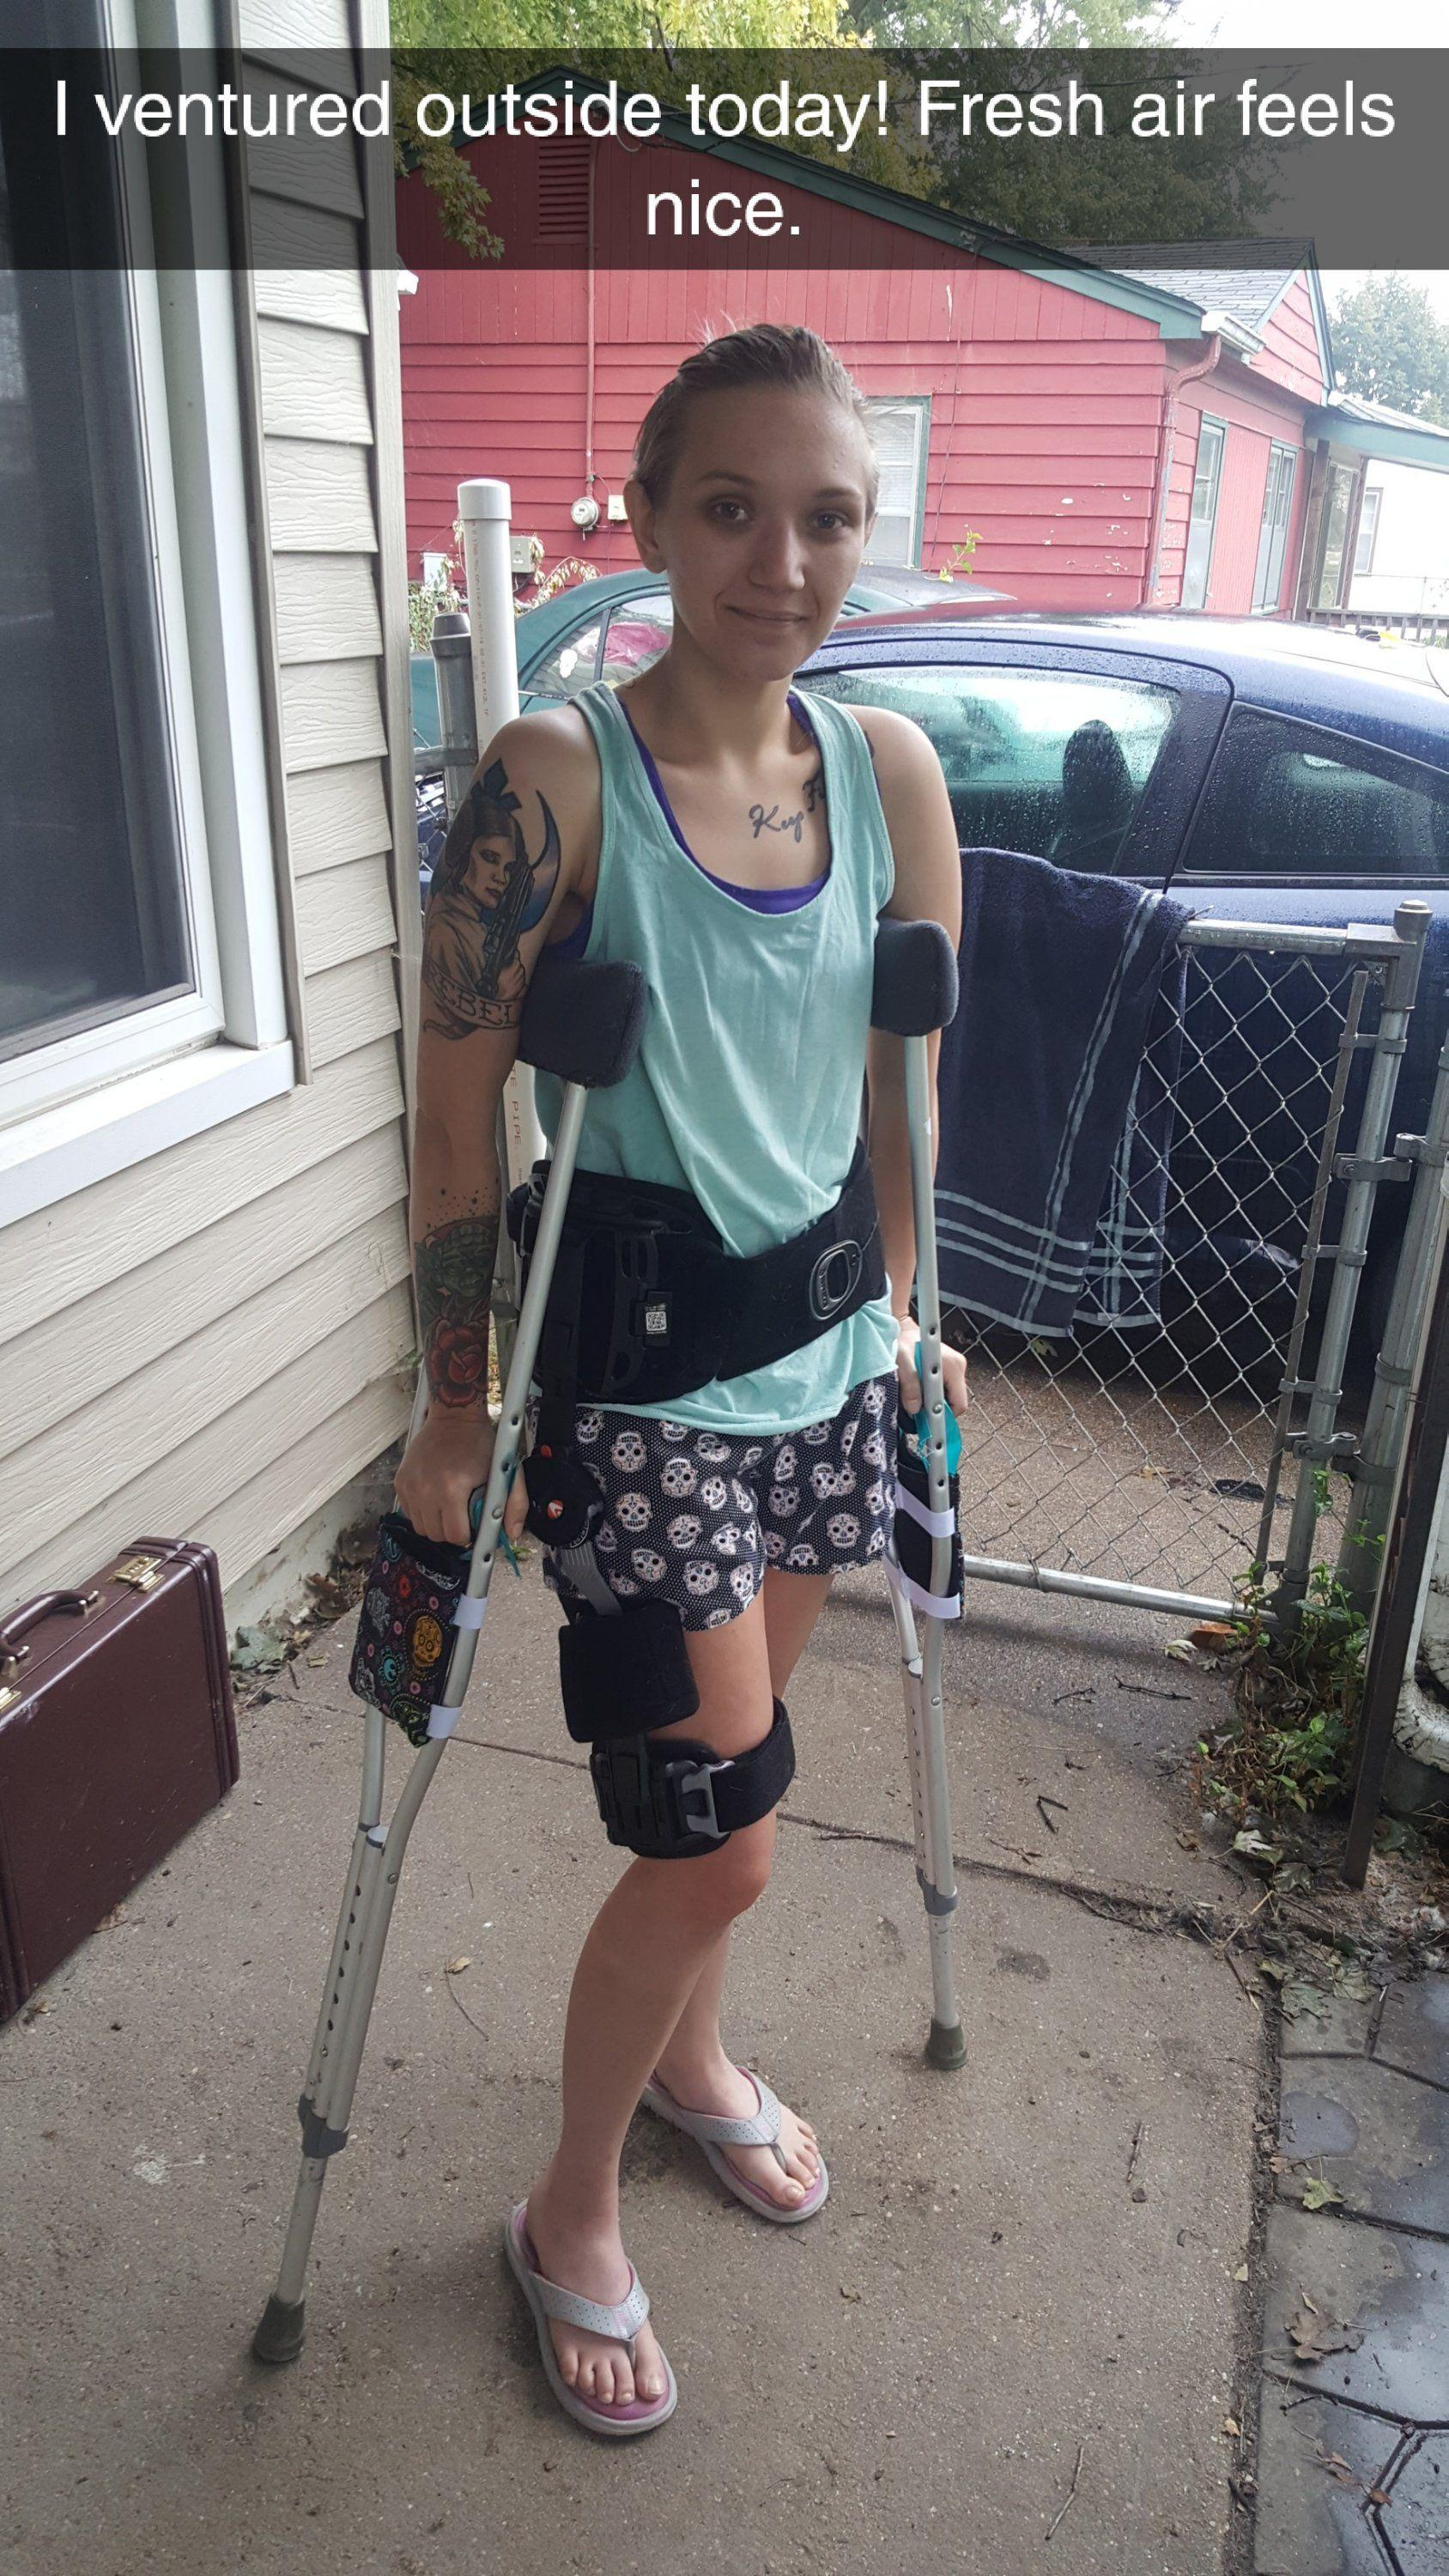crutches: (242, 322, 966, 2443)
